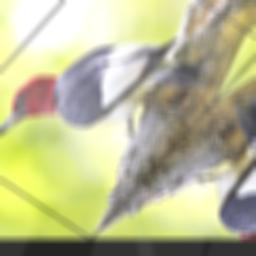Woodpecker: (0, 0, 223, 207)
